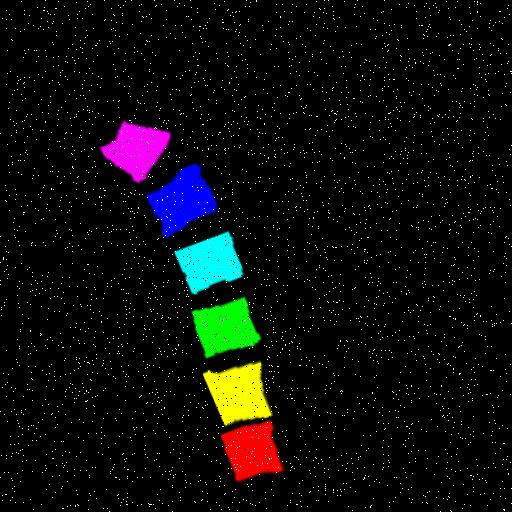L1: (210, 421, 273, 482)
L2: (195, 361, 264, 425)
L3: (184, 298, 252, 358)
L4: (169, 232, 237, 295)
L5: (141, 164, 211, 238)
S1: (97, 122, 167, 182)
